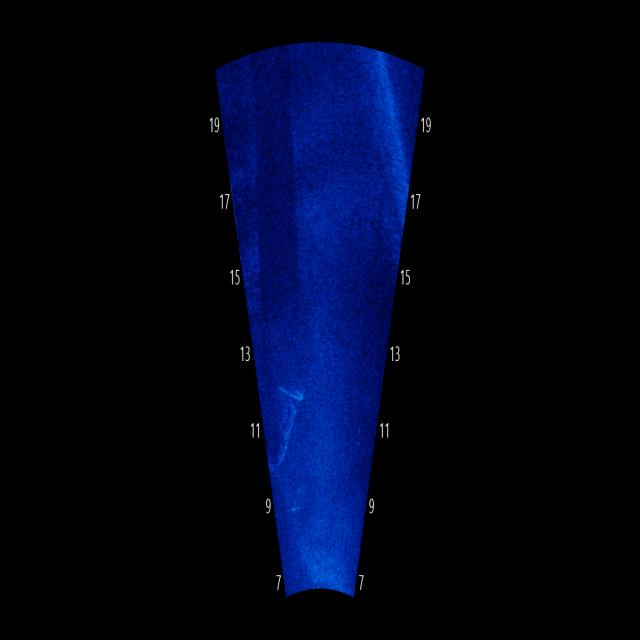triangle: (272, 369, 305, 474)
